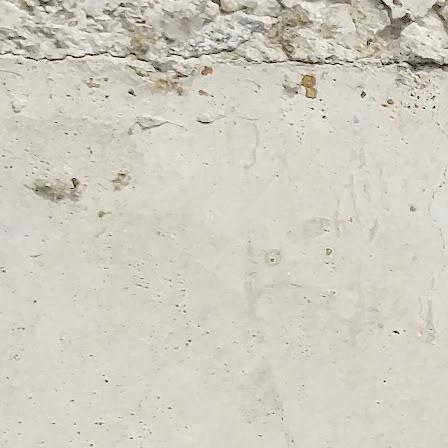crack: (162, 21, 283, 73), (0, 44, 166, 73), (223, 40, 361, 71)
spalling: (338, 0, 445, 88), (7, 0, 90, 49)
